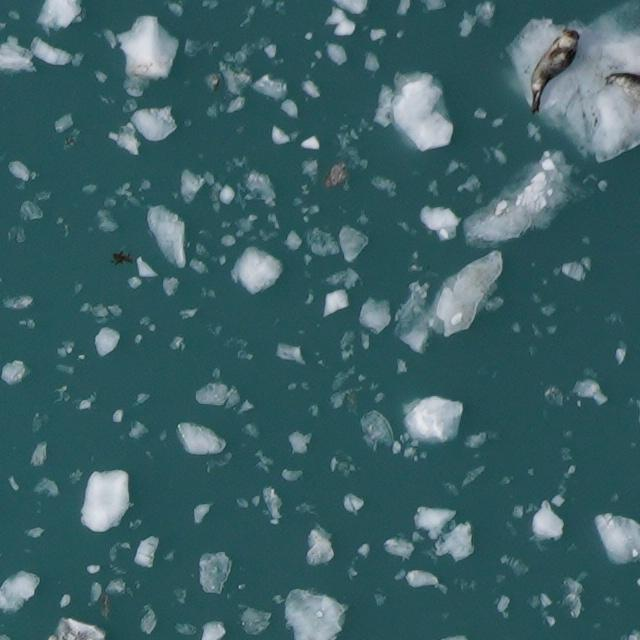seal: (510, 20, 590, 116), (604, 71, 639, 108)
